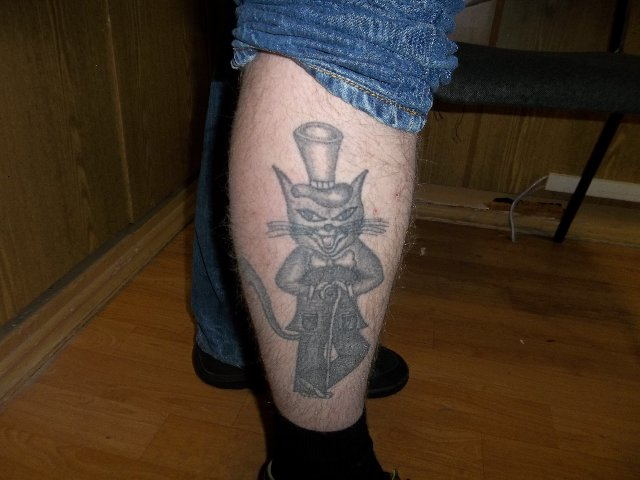tatu8_kot: (247, 117, 390, 402)
